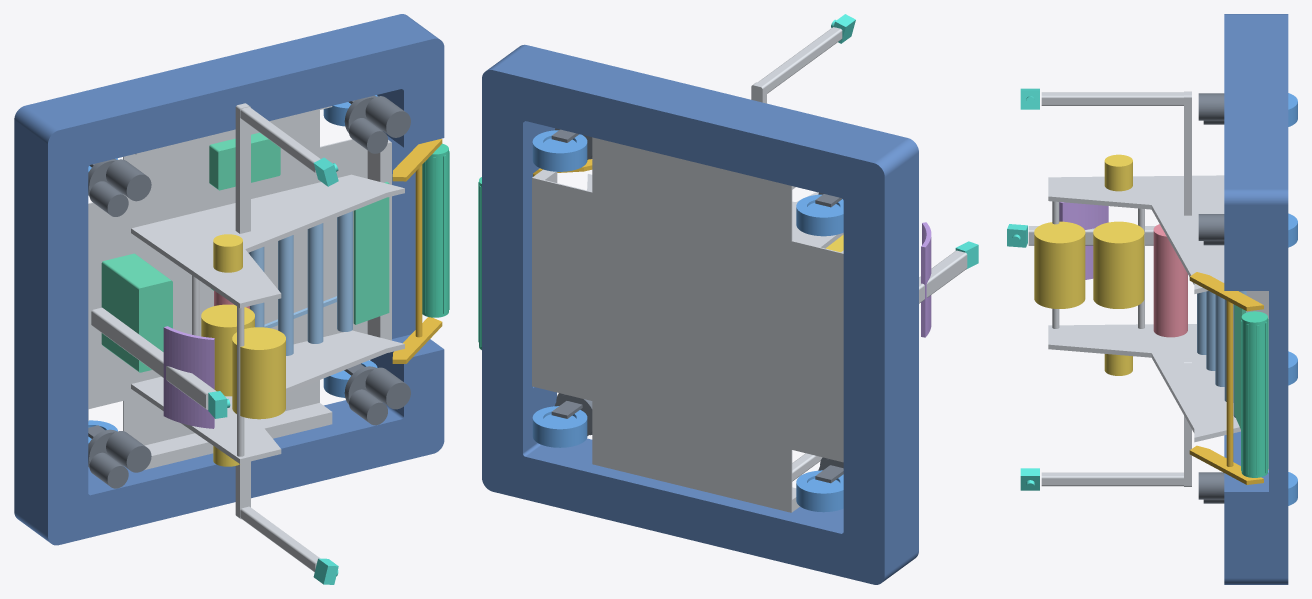
File: frc_10413_fuel_robot.glb
The picture shows the model from 3 angles, left to right: view 1: azimuth 30°, elevation 25°; view 2: azimuth 150°, elevation 25°; view 3: azimuth 270°, elevation 25°; orthographic projection. The views are drawn at different scales.
Parts seen in each view (by area): view 1: bumpers, frame, elec_deck, shooter, indexer, intake, hood, tilter, yoke_fr, yoke_br, yoke_fl, yoke_bl (+1 smaller); view 2: bumpers, frame, wheel_fl, wheel_fr, wheel_br, wheel_bl, hood, yoke_fr, intake; view 3: bumpers, frame, shooter, intake, feeder, tilter, indexer, hood, elec_deck, yoke_fr, yoke_bl, yoke_fl (+3 smaller).
Part boxes in pixels (x1,y1,x2,y2): bumpers: [14, 14, 444, 545]; frame: [88, 103, 404, 571]; elec_deck: [101, 132, 389, 372]; shooter: [201, 234, 285, 466]; indexer: [248, 211, 352, 355]; intake: [422, 143, 449, 317]; hood: [163, 326, 214, 428]; tilter: [392, 138, 442, 363]; yoke_fr: [344, 364, 410, 425]; yoke_br: [88, 425, 151, 488]; yoke_fl: [344, 95, 410, 153]; yoke_bl: [88, 159, 151, 216]; bumpers: [482, 44, 918, 584]; frame: [532, 27, 967, 512]; wheel_fl: [532, 130, 587, 171]; wheel_fr: [532, 406, 587, 447]; wheel_br: [796, 470, 843, 512]; wheel_bl: [796, 194, 843, 236]; hood: [921, 222, 931, 337]; yoke_fr: [551, 393, 592, 435]; intake: [478, 177, 481, 349]; bumpers: [1224, 14, 1288, 584]; frame: [1028, 91, 1268, 486]; shooter: [1034, 154, 1144, 375]; intake: [1241, 311, 1268, 477]; feeder: [1153, 224, 1187, 337]; tilter: [1189, 272, 1263, 484]; indexer: [1197, 291, 1246, 417]; hood: [1059, 202, 1108, 279]; elec_deck: [1234, 305, 1245, 429]; yoke_fr: [1198, 472, 1268, 503]; yoke_bl: [1198, 93, 1224, 124]; yoke_fl: [1198, 214, 1224, 245].
Bounding box in the file's own units: 0.9056 × 0.8748 × 0.5764.
